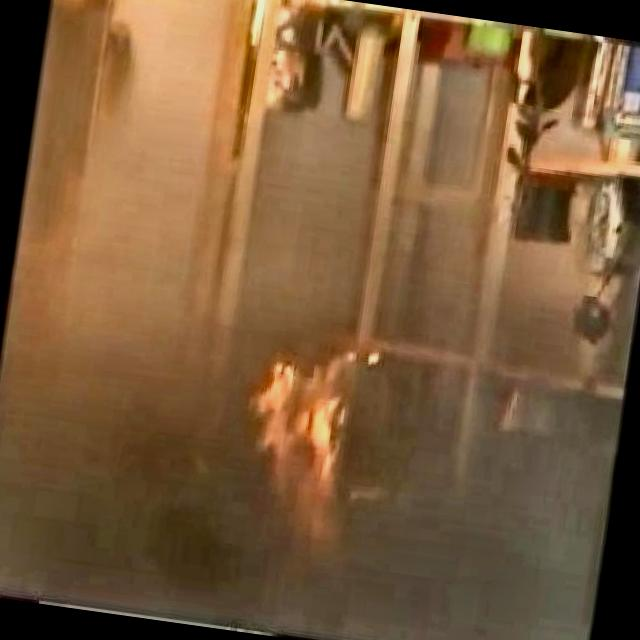fire: (220, 350, 390, 548)
